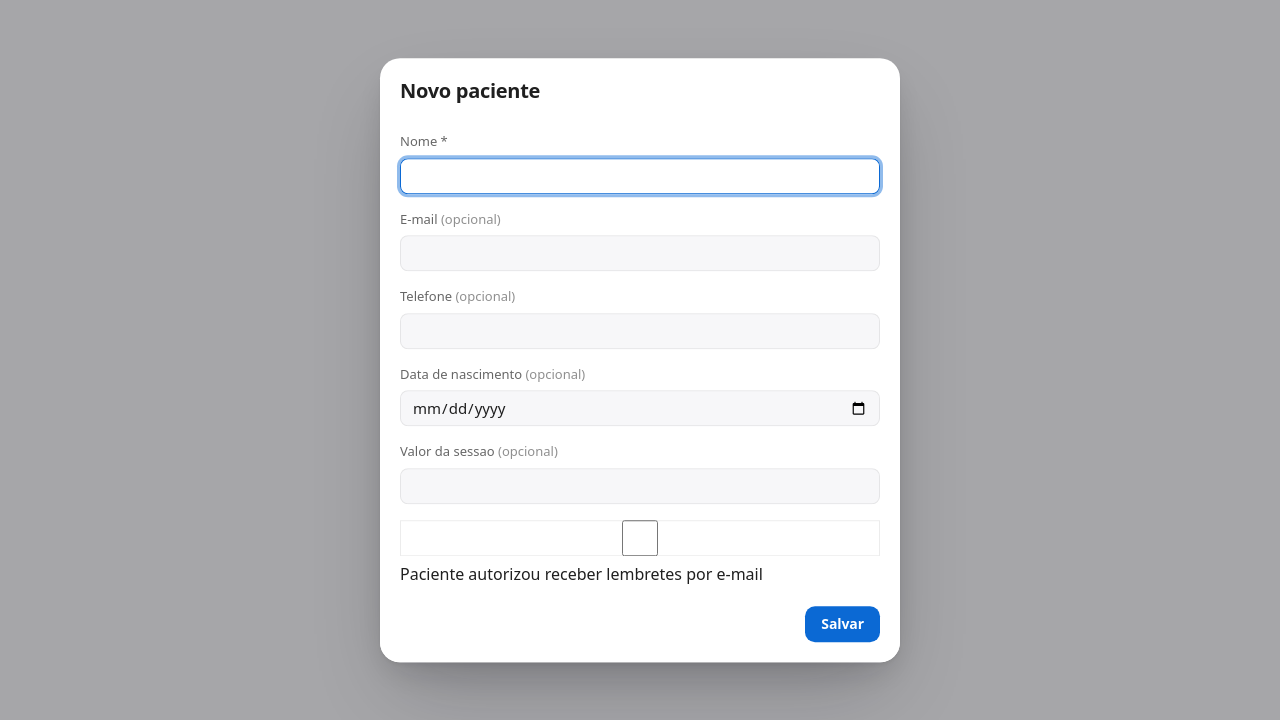
it: dialogo de paciente › nome vazio nao envia, e o erro diz o que fazer
Click the button "Salvar" at (843, 624), box [805, 606, 880, 642]
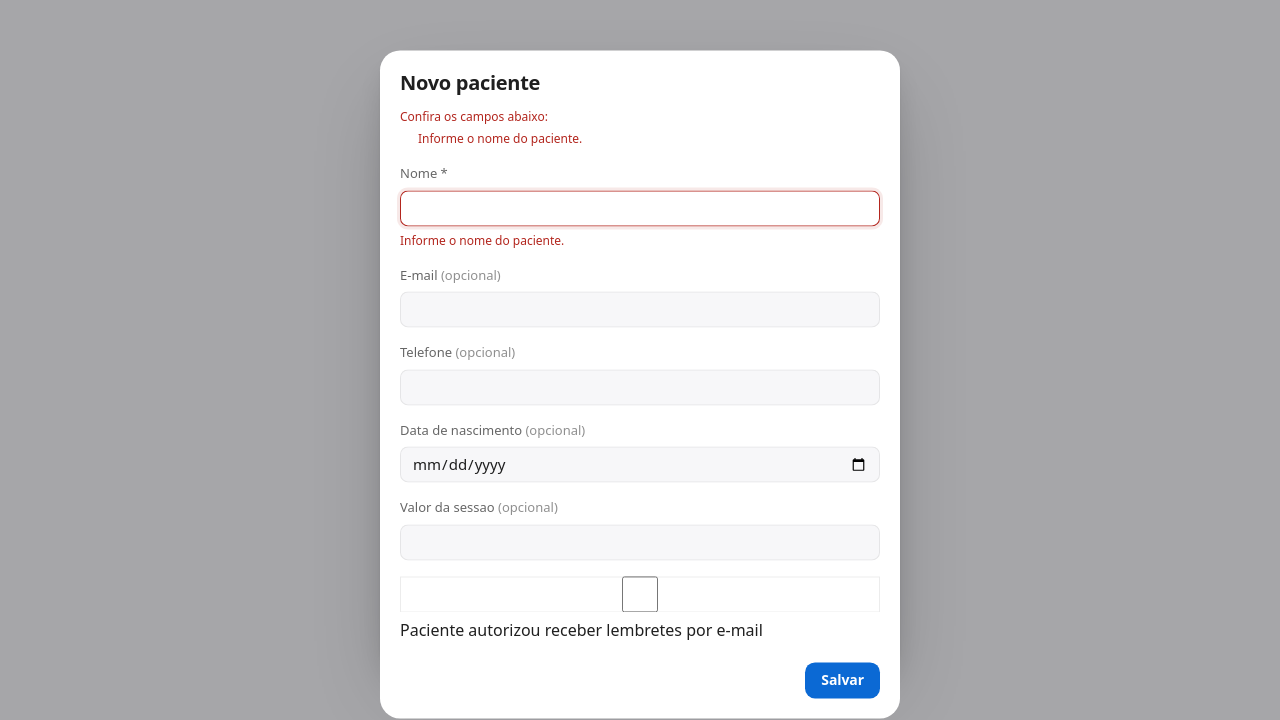
Now the text "Informe o nome do paciente." is shown, box [400, 232, 564, 249]
